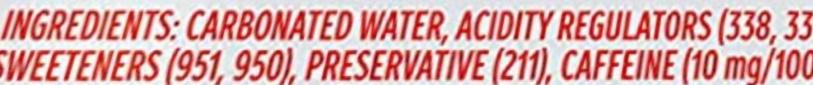ingredients: (1, 5, 813, 85)
